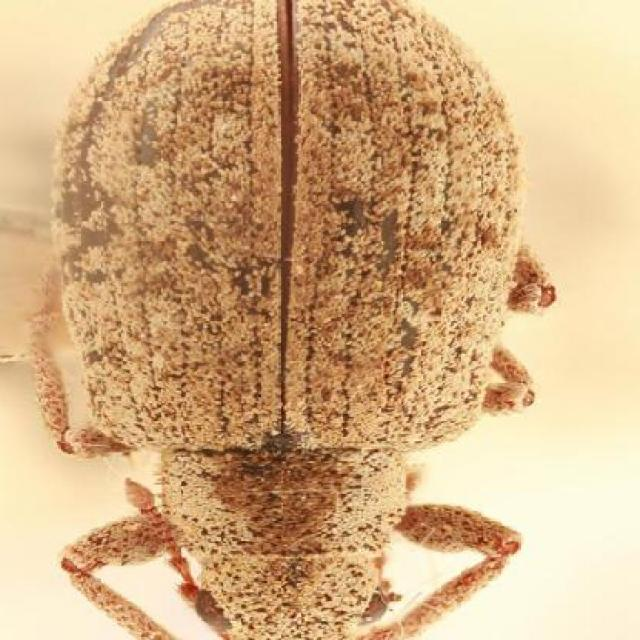rice-bug: (32, 0, 554, 640)
